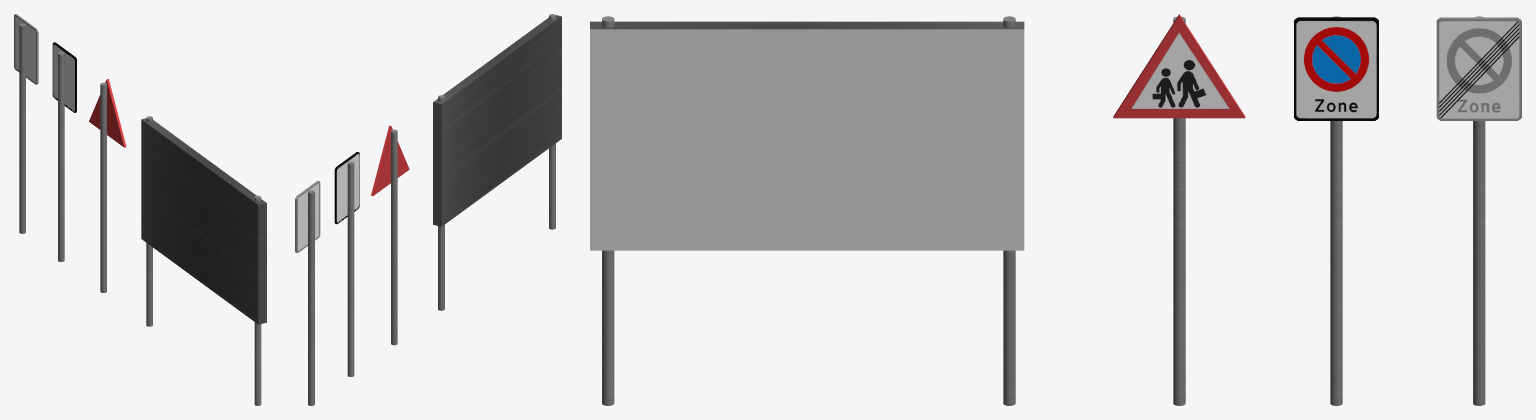
File: Signage.fbx
3 renders of one model, left to right at view 1: azimuth 30°, elevation 25°; view 2: azimuth 150°, elevation 25°; view 3: azimuth 270°, elevation 25°, orthographic. The views are drawn at different scales.
Parts seen in each view (by area): view 1: Circle.003, Circle.002, Circle, Circle.001, Circle.004; view 2: Circle.003, Circle, Circle.002, Circle.001, Circle.004; view 3: Circle.005, Circle.002, Circle, Circle.001, Circle.004, Circle.003.
Boxes of the visible parts, x1,y1,x2,y2 form: Circle.003: (141,118,266,324); Circle.002: (14,14,38,233); Circle: (52,42,76,261); Circle.001: (89,79,126,292); Circle.004: (146,116,261,405); Circle.003: (433,15,561,226); Circle: (334,152,359,376); Circle.002: (295,180,320,405); Circle.001: (371,125,409,345); Circle.004: (438,14,555,310); Circle.005: (590,29,1024,250); Circle.002: (1436,16,1521,405); Circle: (1294,16,1378,405); Circle.001: (1113,14,1245,405); Circle.004: (602,16,1015,405); Circle.003: (590,21,1024,29).
Bounding box in the file's own units: 35.5 × 765 × 1648.
Materials: 4 (3 with a texture image).
